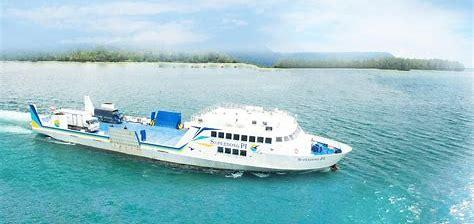Ship: (31, 96, 352, 172)
